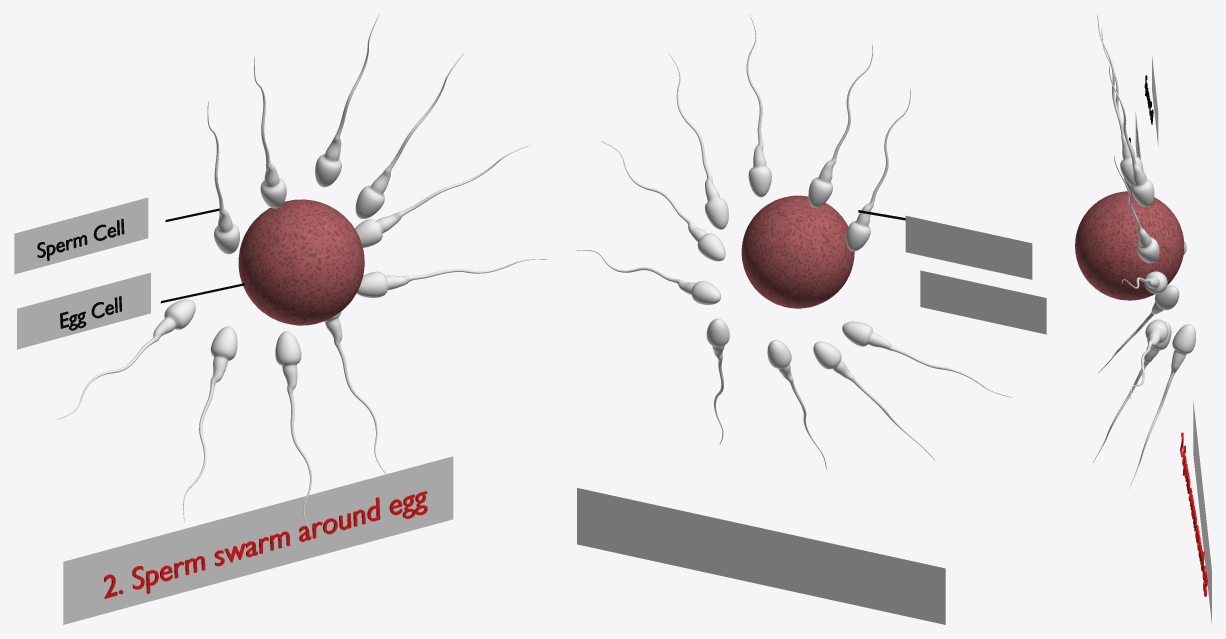
The picture shows the model from 3 angles, left to right: view 1: azimuth 30°, elevation 25°; view 2: azimuth 150°, elevation 25°; view 3: azimuth 270°, elevation 25°; orthographic projection. The views are drawn at different scales.
Visible parts, largest first — view 1: Plane.138, Object_2.499, Plane.139, Plane.136, Text.074, Sperm_Sperm_0.030, Sperm_Sperm_0.029, Sperm_Sperm_0.017, Sperm_Sperm_0.019, Sperm_Sperm_0.020, Sperm_Sperm_0.027, Sperm_Sperm_0.018 (+3 smaller); view 2: Plane.138, Object_2.499, Plane.136, Plane.139, Sperm_Sperm_0.027, Sperm_Sperm_0.017, Sperm_Sperm_0.019, Sperm_Sperm_0.026, Sperm_Sperm_0.016, Sperm_Sperm_0.018, Sperm_Sperm_0.029, Sperm_Sperm_0.020 (+2 smaller); view 3: Object_2.499, Plane.138, Sperm_Sperm_0.028, Sperm_Sperm_0.027, Sperm_Sperm_0.026, Text.074, Sperm_Sperm_0.017, Sperm_Sperm_0.029, Sperm_Sperm_0.020, Sperm_Sperm_0.030, Sperm_Sperm_0.018, Plane.136 (+1 smaller).
Boxes of the visible parts, x1,y1,x2,y2 form: Plane.138: (63,456,453,624); Object_2.499: (238,199,364,325); Plane.139: (17,272,150,349); Plane.136: (14,197,148,274); Text.074: (104,491,427,598); Sperm_Sperm_0.030: (275,331,312,536); Sperm_Sperm_0.029: (183,326,237,522); Sperm_Sperm_0.017: (355,52,464,218); Sperm_Sperm_0.019: (55,299,195,420); Sperm_Sperm_0.020: (356,259,547,297); Sperm_Sperm_0.027: (315,14,379,187); Sperm_Sperm_0.018: (354,144,530,247); Plane.138: (577,488,945,624); Object_2.499: (741,195,854,308); Plane.136: (905,215,1032,279); Plane.139: (920,270,1046,334); Sperm_Sperm_0.027: (746,14,771,197); Sperm_Sperm_0.017: (668,52,728,229); Sperm_Sperm_0.019: (842,321,1012,397); Sperm_Sperm_0.026: (808,43,872,207); Sperm_Sperm_0.016: (846,87,910,251); Sperm_Sperm_0.018: (601,141,725,261); Sperm_Sperm_0.029: (813,341,935,460); Sperm_Sperm_0.020: (576,250,720,304); Object_2.499: (1075,191,1184,300); Plane.138: (1193,401,1211,623); Sperm_Sperm_0.028: (1129,324,1195,488); Sperm_Sperm_0.027: (1109,65,1154,207); Sperm_Sperm_0.026: (1097,14,1143,185); Text.074: (1180,432,1207,596); Sperm_Sperm_0.017: (1114,156,1159,263); Sperm_Sperm_0.029: (1098,285,1179,373); Sperm_Sperm_0.020: (1130,319,1168,400); Sperm_Sperm_0.030: (1093,321,1171,462); Sperm_Sperm_0.018: (1122,271,1167,293); Plane.136: (1152,56,1158,145).
Bounding box in the file's own units: 3.19 × 3.36 × 0.8273.
6 materials, 2 textured.
